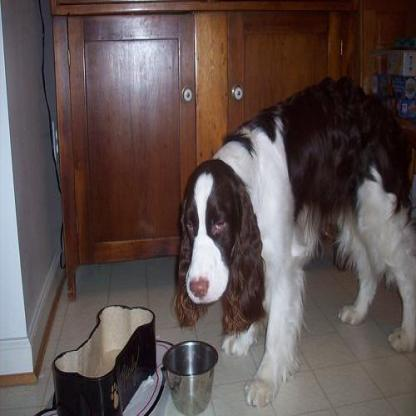English_springer: (171, 72, 413, 410)
